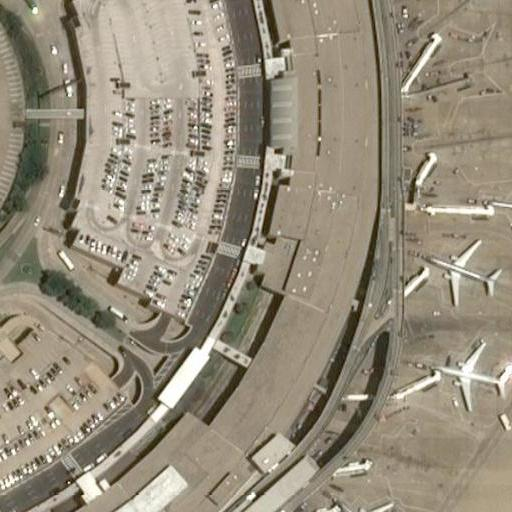Aircraft: (434, 338, 512, 410), (427, 240, 498, 305), (491, 172, 512, 241), (332, 496, 402, 512)
